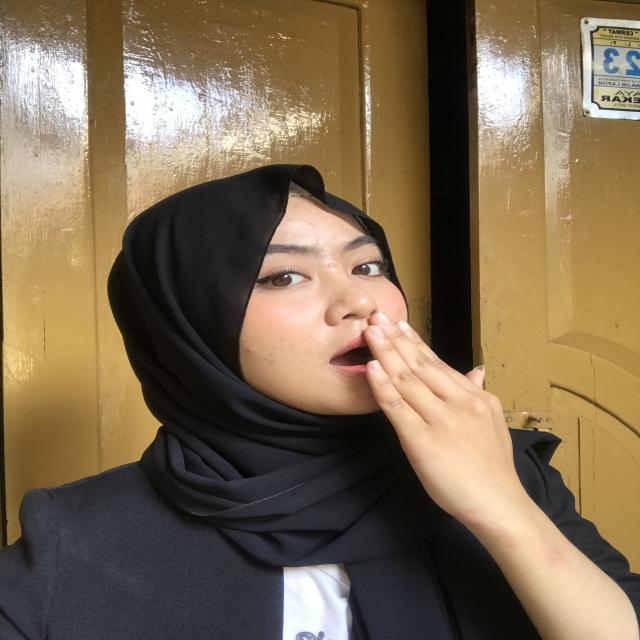ngantuk: (353, 303, 545, 532)
